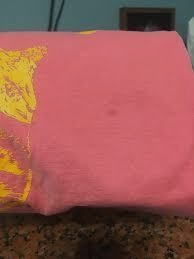oil: (102, 97, 124, 118)
